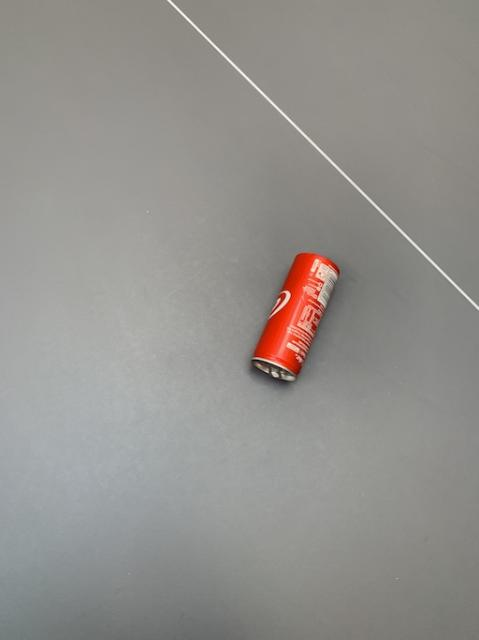metal: (251, 252, 337, 380)
